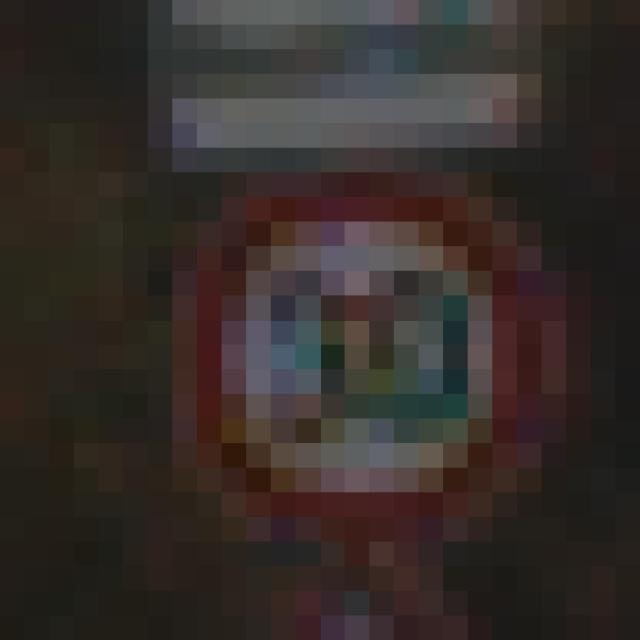Speed Limit 30 KMPh: (99, 123, 616, 591)
